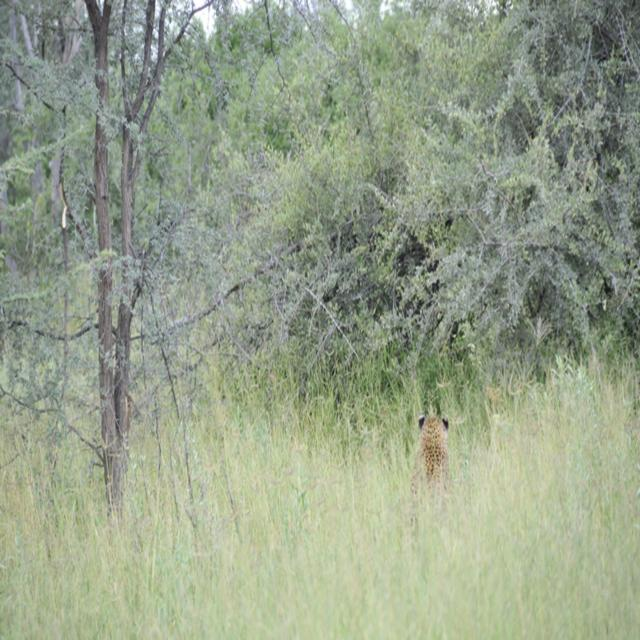Leopard: (405, 414, 458, 504)
